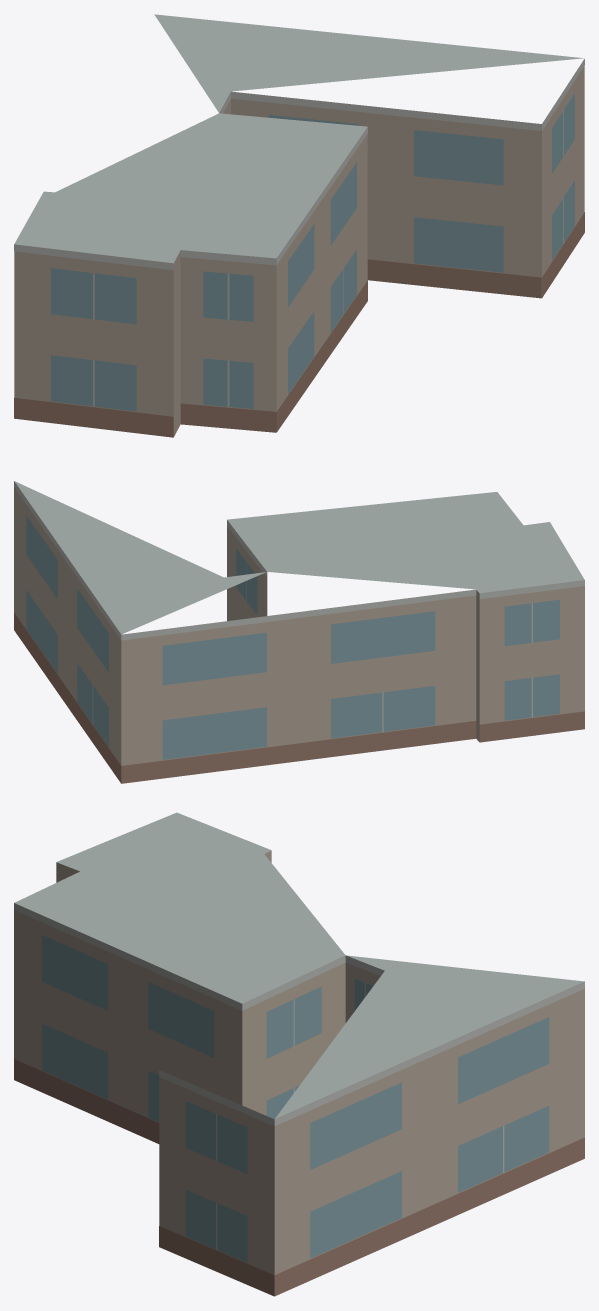
The model's file is survey-upis-32756270.glb.
3 views of the same model, one above another, from view 1: azimuth 30°, elevation 25°; view 2: azimuth 150°, elevation 25°; view 3: azimuth 270°, elevation 25° (orthographic). The views are drawn at different scales.
Parts seen in each view (by area): view 1: survey-upis-32756270.tmp; view 2: survey-upis-32756270.tmp; view 3: survey-upis-32756270.tmp.
Part boxes in pixels (left/top/right/bottom): survey-upis-32756270.tmp: left=14, top=14, right=584, bottom=437; survey-upis-32756270.tmp: left=14, top=481, right=584, bottom=783; survey-upis-32756270.tmp: left=14, top=812, right=584, bottom=1296.
Size of the model in its own units: 22.67 by 6.1 by 17.82.
